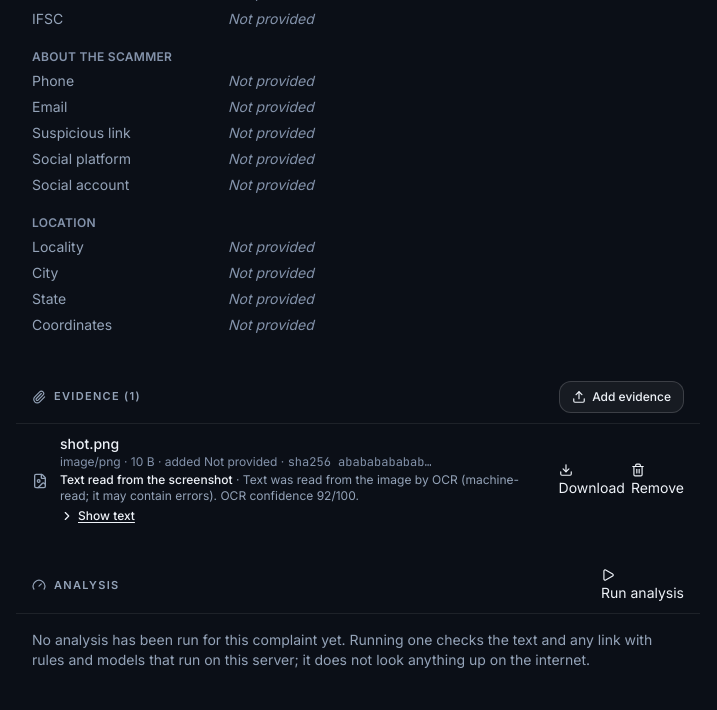
screenshot text (OCR) › shows the OCR state and the machine-read text on demand
(page scrolled)
Expected: the element with test id "ocr-status" shows "OCR confidence 92/100", [217,488,359,502]
Click the button with test id "ocr-toggle" at (97,516), box [60,508,135,524]
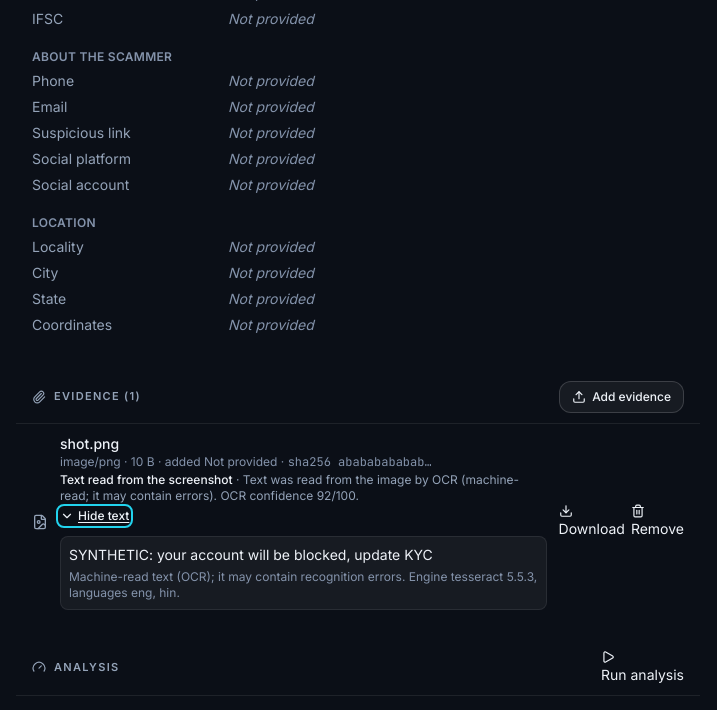
Result: the text with test id "ocr-text" shows "update KYC" at [69,546,433,562]
Result: the element with test id "ocr-viewer" shows "may contain recognition errors" at [69,568,405,584]
